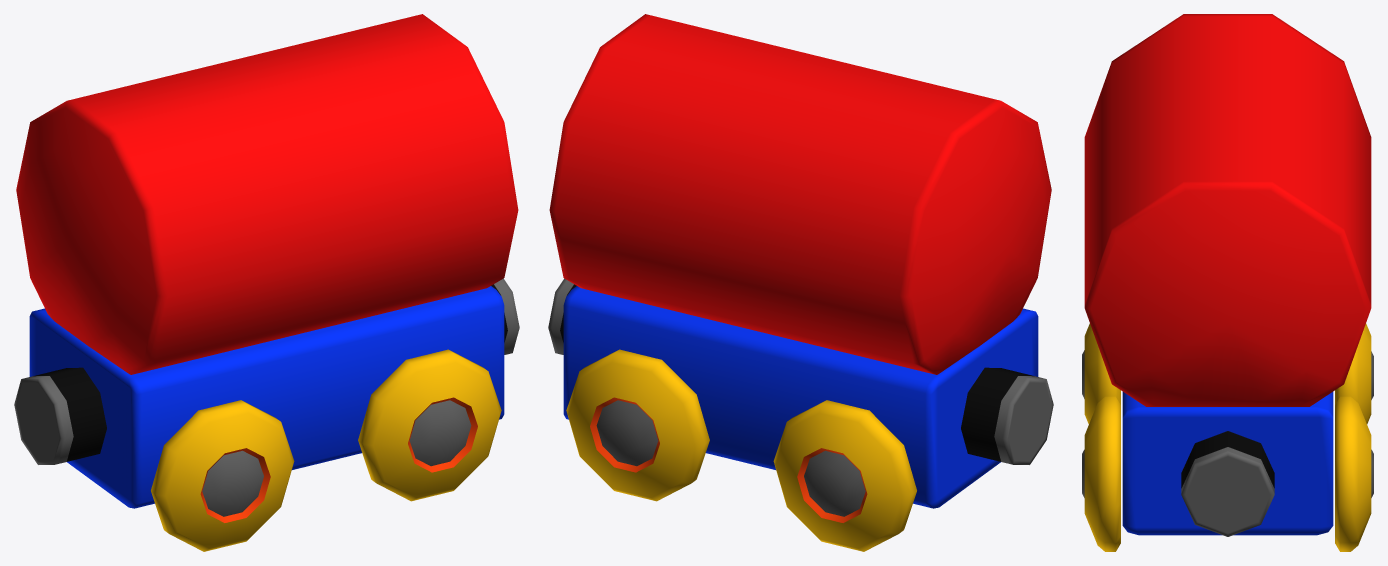
Rendered from train_oil_tank_01.FBX.
3 views of the same model, side by side, from view 1: azimuth 30°, elevation 25°; view 2: azimuth 150°, elevation 25°; view 3: azimuth 270°, elevation 25° (orthographic).
Parts seen in each view (by area): view 1: train_oil_tank_01; view 2: train_oil_tank_01; view 3: train_oil_tank_01.
Boxes of the visible parts, left/top/right/bottom form: train_oil_tank_01: left=14, top=14, right=519, bottom=551; train_oil_tank_01: left=548, top=14, right=1053, bottom=551; train_oil_tank_01: left=1082, top=14, right=1373, bottom=551.
Size of the model in its own units: 717 by 601 by 404.
